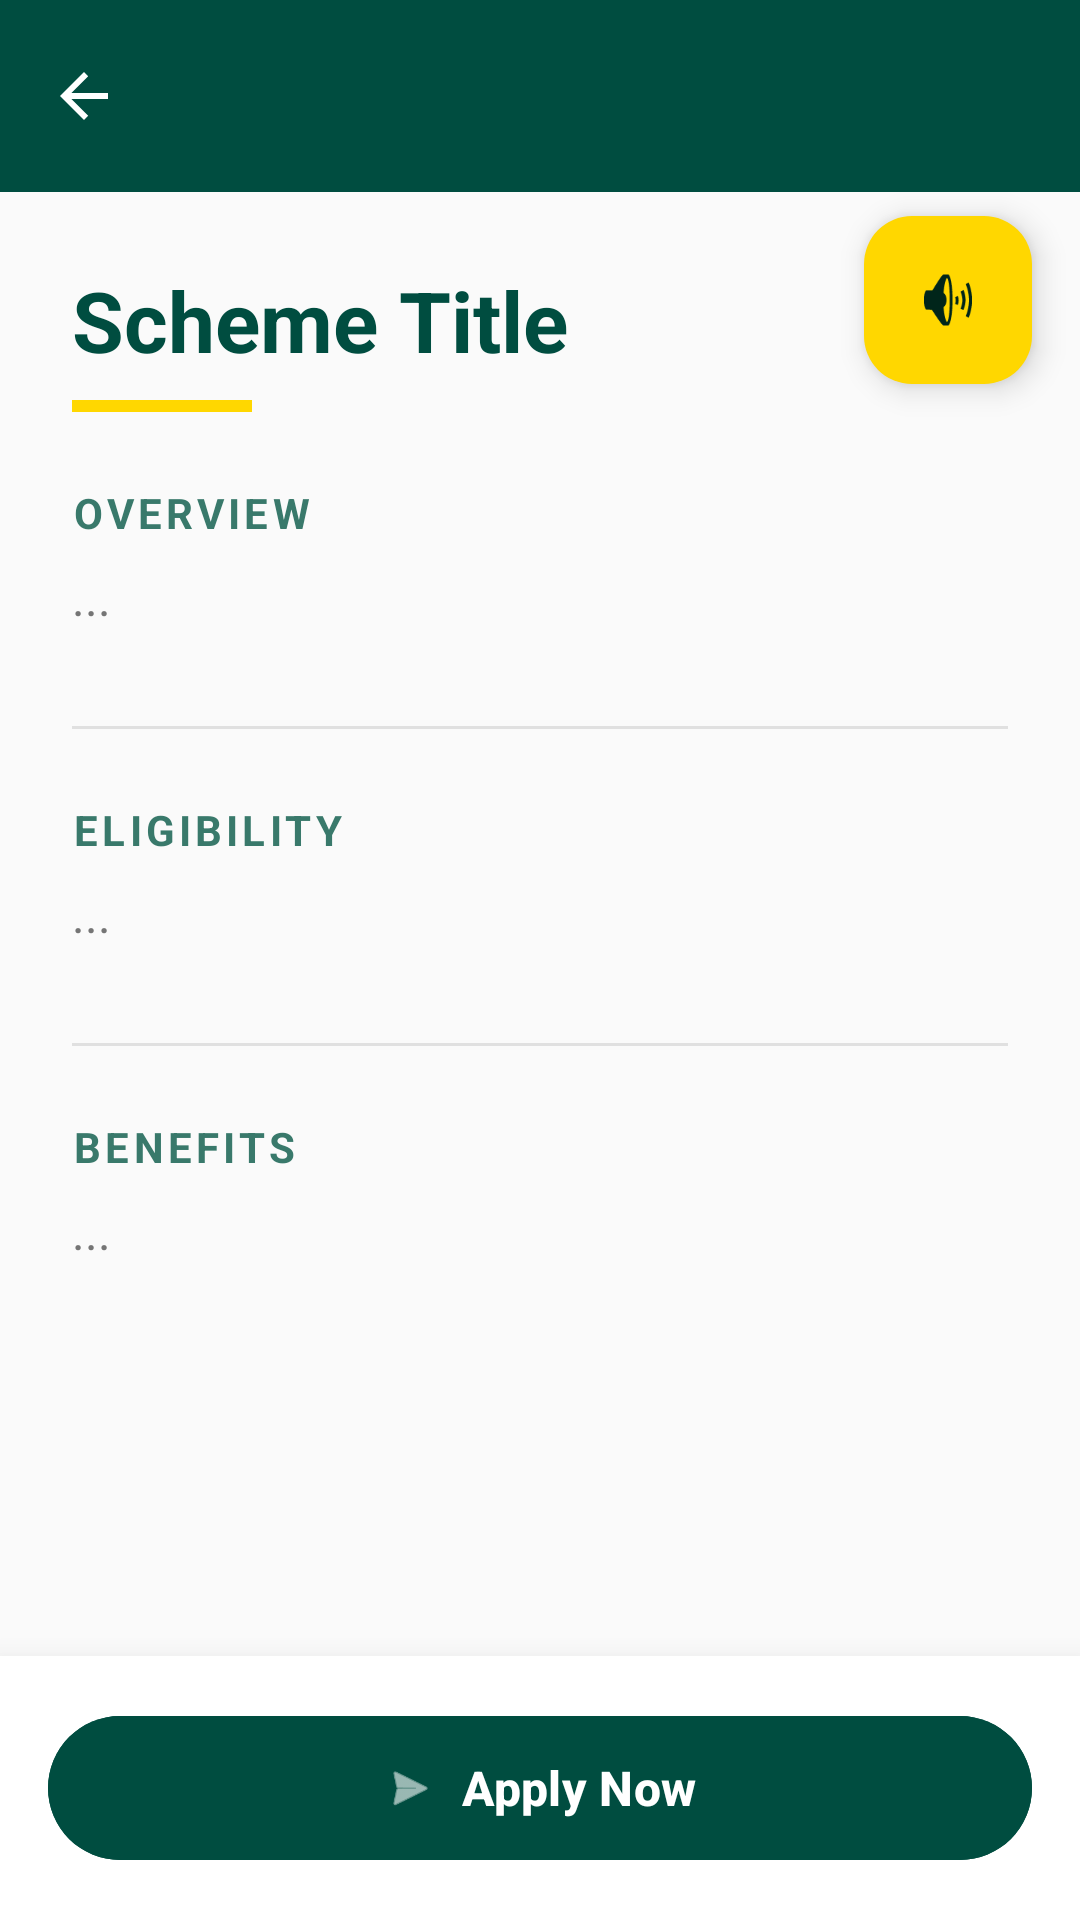

Named icons in this screenshot (1080w x 1920h) and their centers, (x,y):
Read aloud in Malayalam: (948,300)
